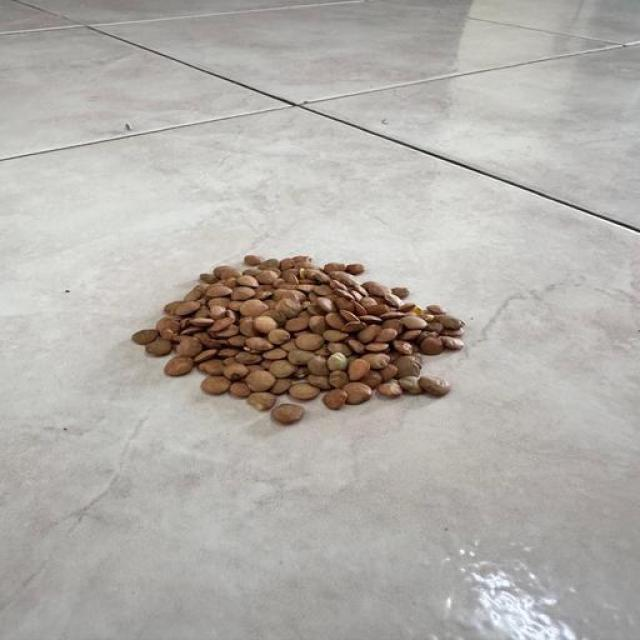organic: (140, 218, 502, 519)
